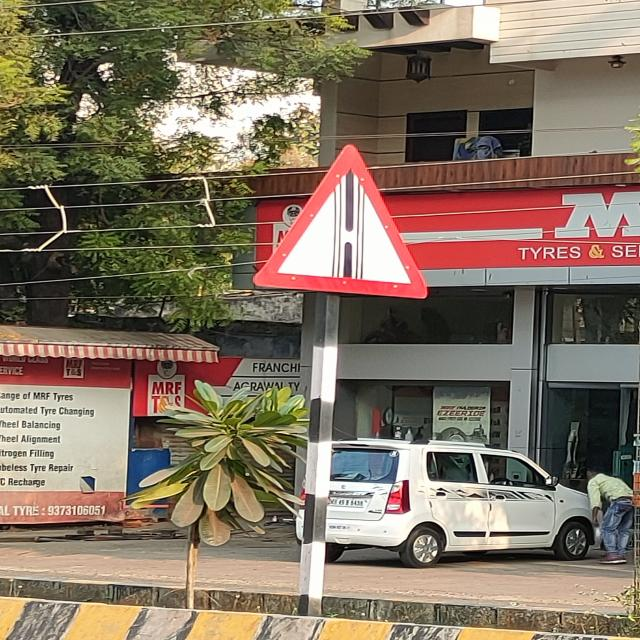ferry: (256, 143, 433, 298)
